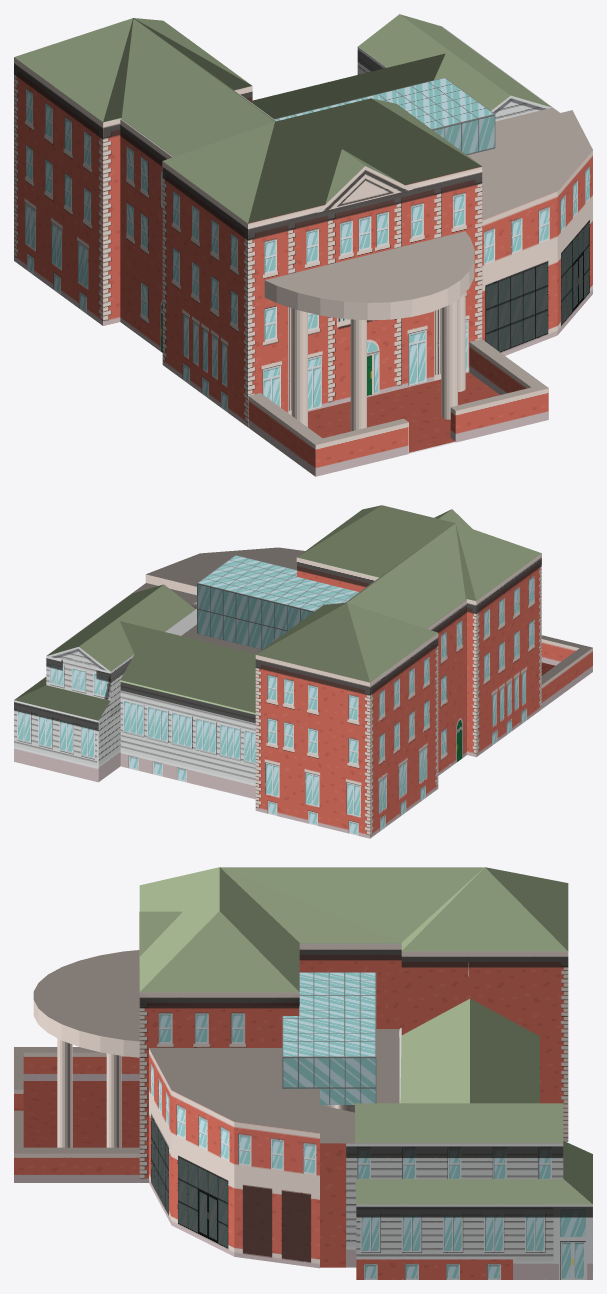
File: Collis.gltf
The picture shows the model from 3 angles, top to bottom: view 1: azimuth 30°, elevation 25°; view 2: azimuth 150°, elevation 25°; view 3: azimuth 270°, elevation 25°; orthographic projection. The views are drawn at different scales.
Parts seen in each view (by area): view 1: node-0; view 2: node-0; view 3: node-0.
Boxes of the visible parts, x1=… form: node-0: x1=14, y1=14, x2=592, y2=476; node-0: x1=14, y1=505, x2=592, y2=838; node-0: x1=14, y1=867, x2=592, y2=1279.
Size of the model in its own units: 215 by 117 by 256.
40 materials, 30 textured.
